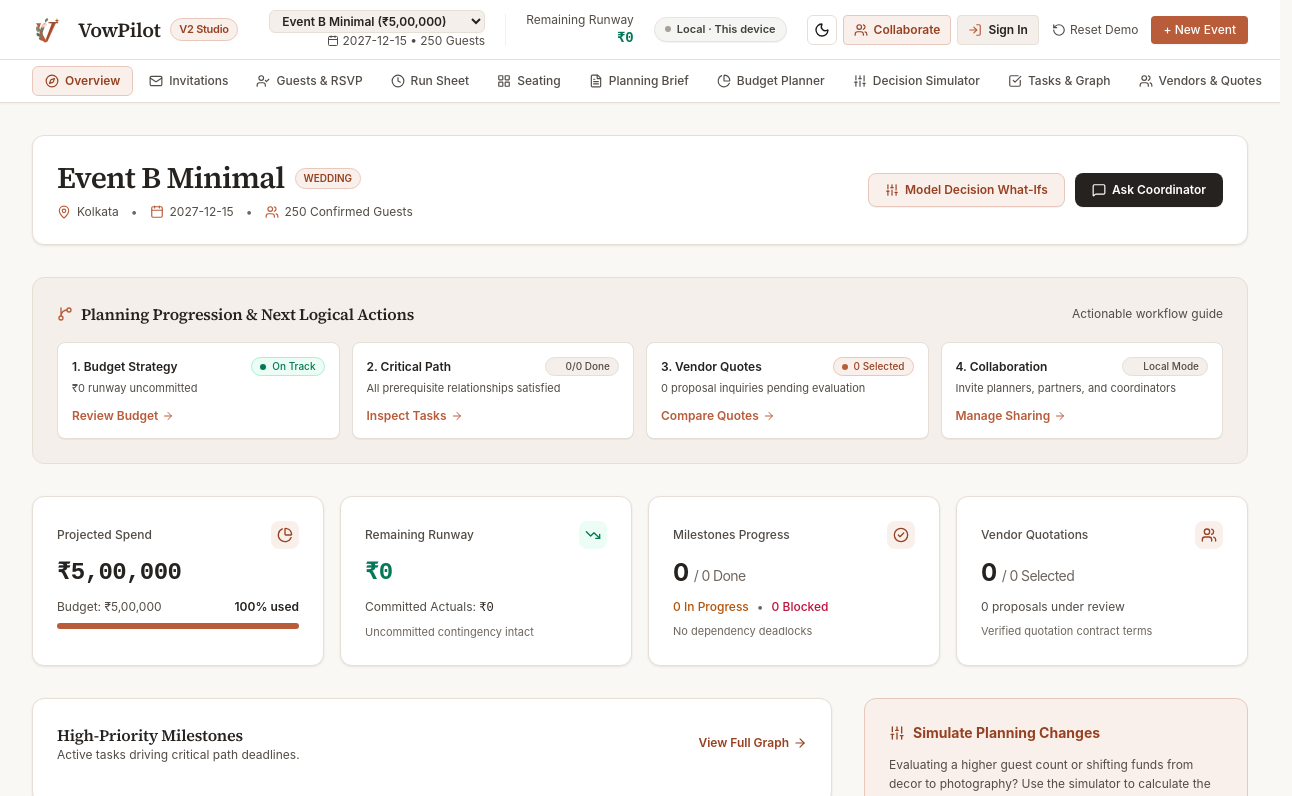
Test: VowPilot — Critical Budget Isolation & Multi-Event Regression Suite › UI Integration: Header event switcher dropdown switches events and isolates displayed event
The image size is (1292, 796).
Expected: the heading "Event B Minimal" is shown, [57,160,285,196]
Expected: the text "₹5,00,000" is shown, [57,559,181,586]
Select "Event A Royal (₹25,00,00,000)" in the dropdown with test id "event-switcher-select". click: coordinates (377, 22)
box: [269,10,485,33]
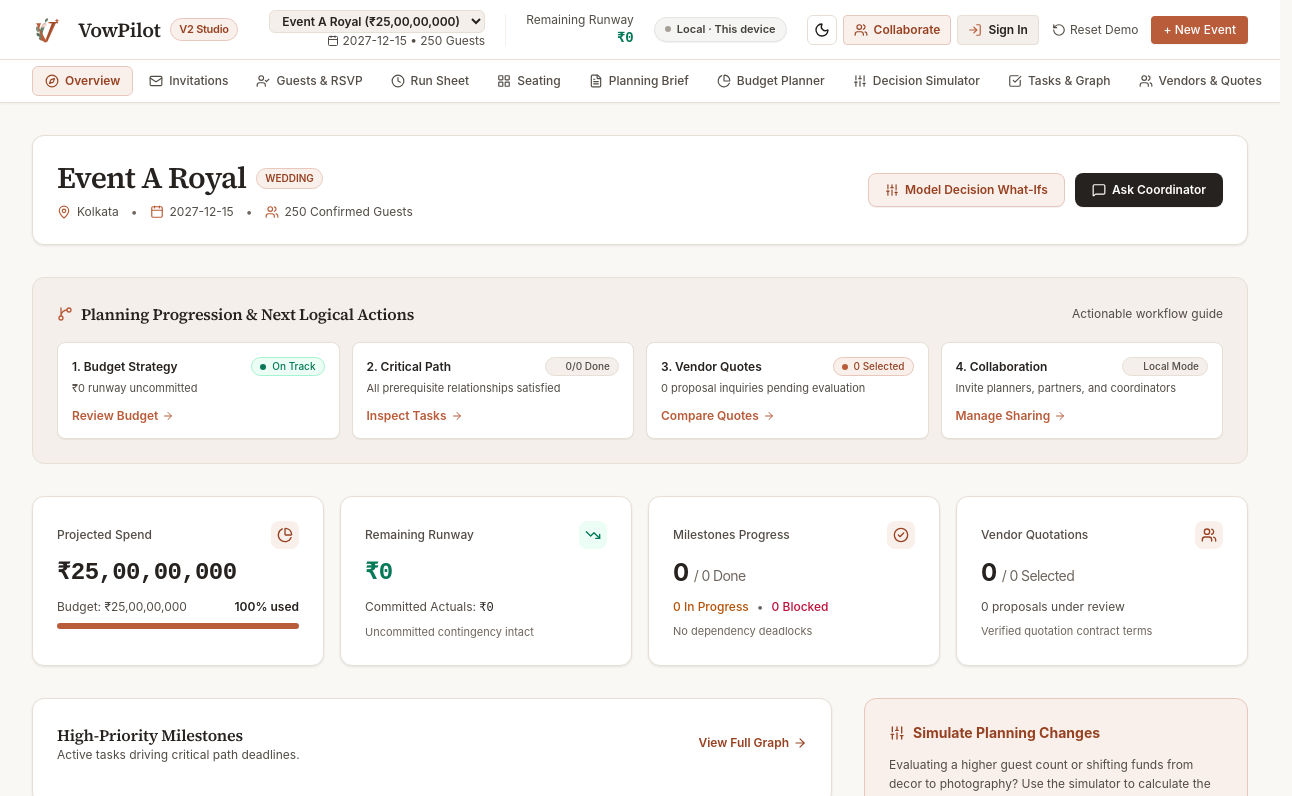
Result: the heading "Event A Royal" is shown at [57,160,246,196]
Result: the text "₹25,00,00,000" is shown at [57,559,236,586]
